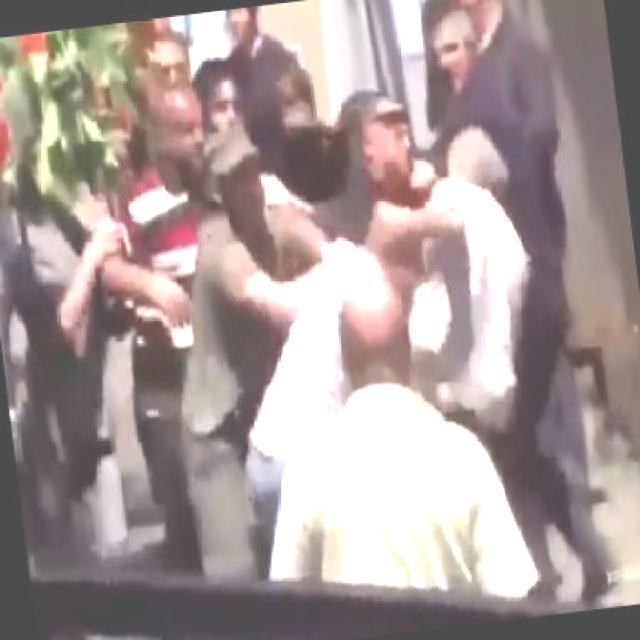fight: (250, 124, 538, 396)
